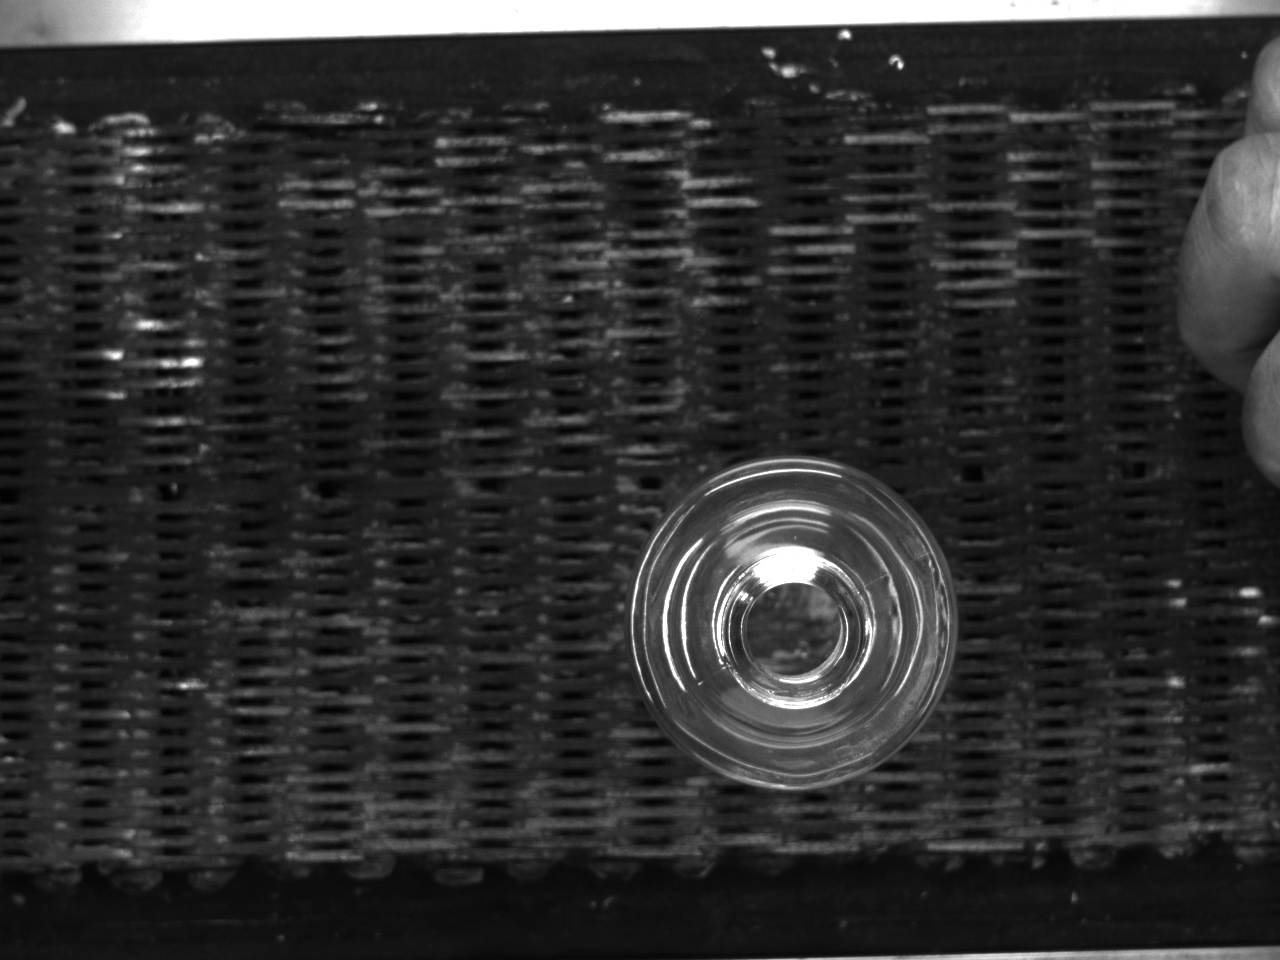bottleneck: (713, 547, 877, 711)
